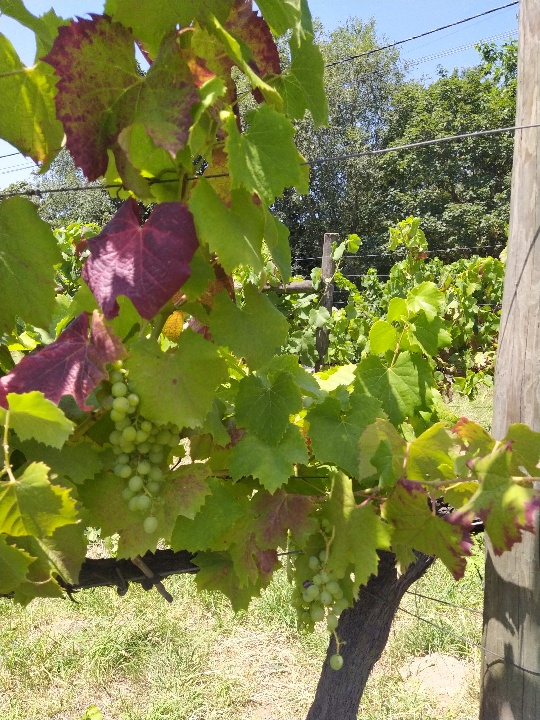grape: (95, 360, 187, 545)
